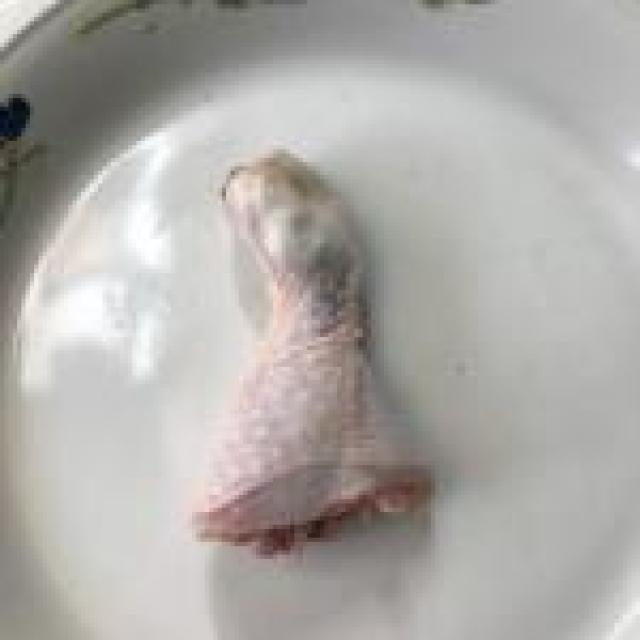leg: (194, 147, 431, 566)
